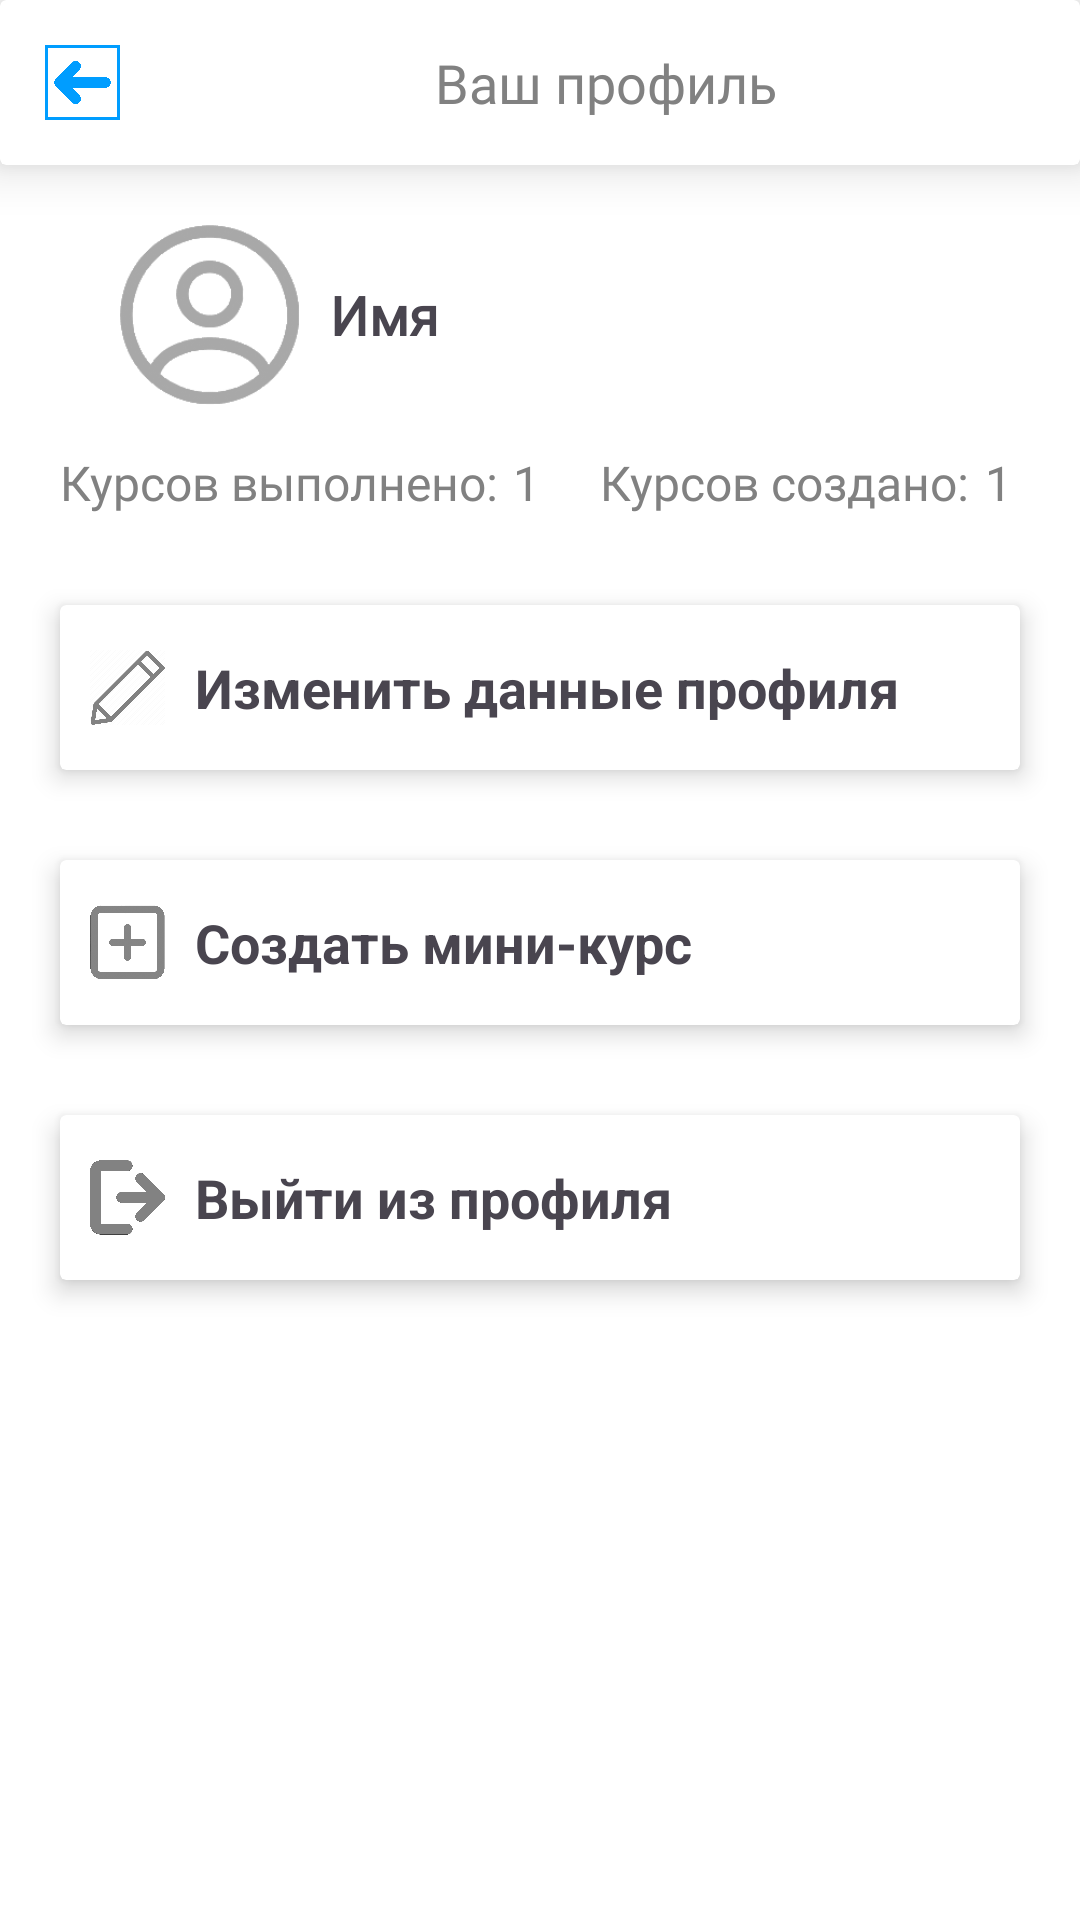

Icon click points for this 1080px×1920px phone screenshot, format [x,y]:
exit: [127,1197]
leftarrow: [82,82]
pencil: [128,688]
plus: [127,942]
profile: [209,314]
